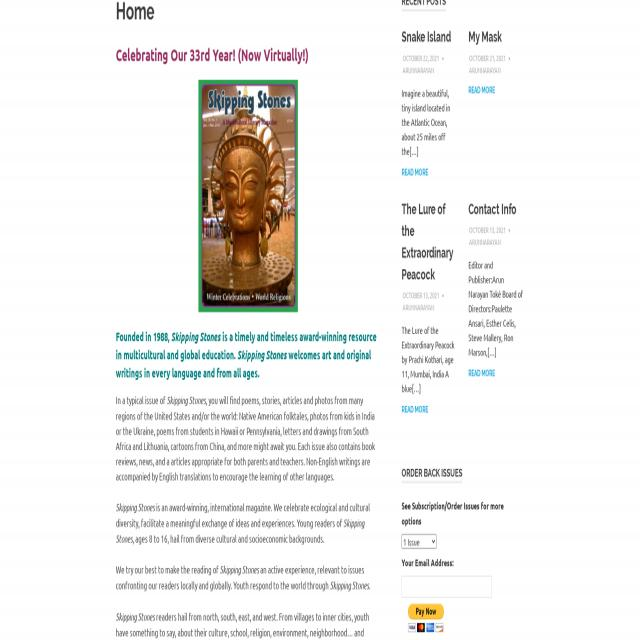button: (198, 80, 298, 312), (408, 603, 444, 620)
field: (402, 576, 492, 598), (402, 534, 436, 549)
